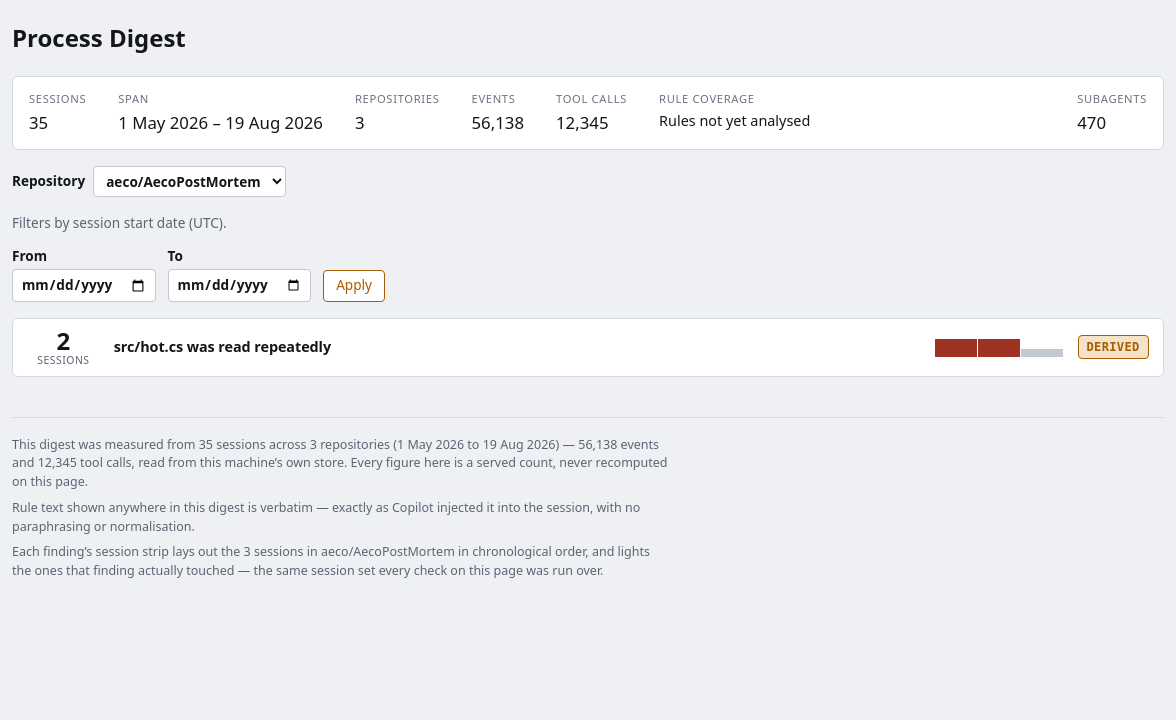
Test: DigestPage › expands a row to show its evidence, provenance badge and suggestion
The width and height of the screenshot is (1176, 720).
Step 1. Click the button "2 sessions src/hot.cs was read repeatedly Derived" → (63, 360), box [13,318,1163,376]
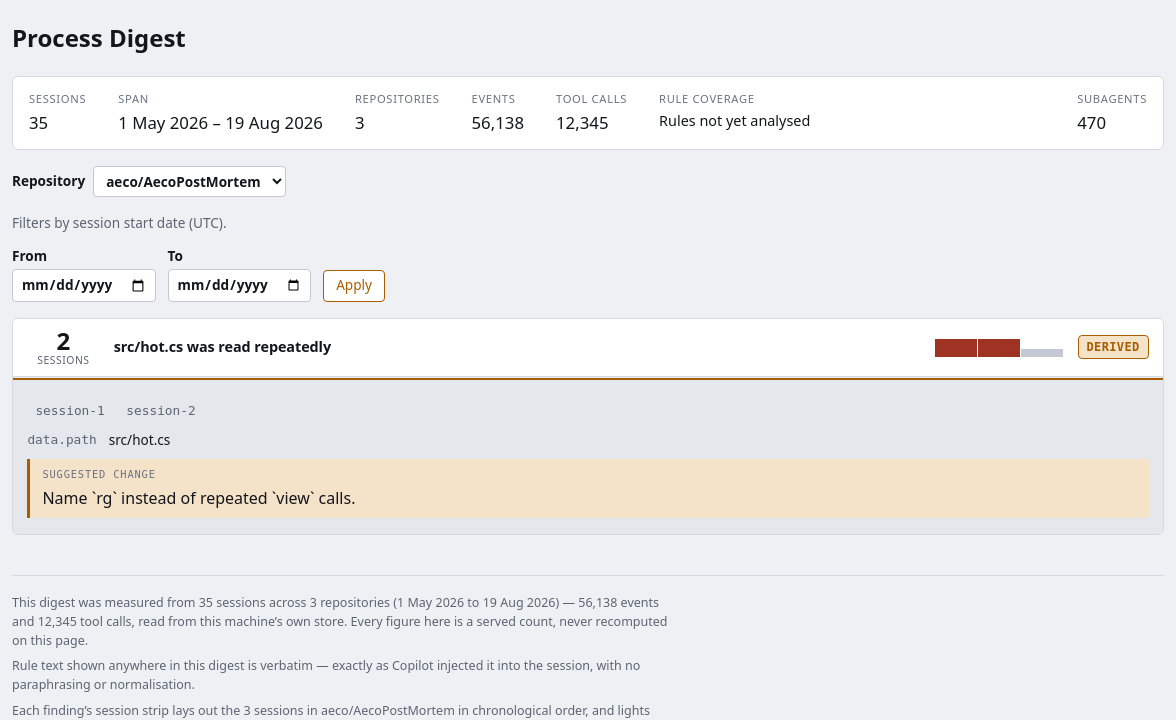
Expected: the text "Derived" is shown, [1078,335,1149,359]
Expected: the text "data.path" is shown, [27,430,97,450]
Expected: the text "Name `rg` instead of repeated `view` calls." is shown, [42,487,355,509]
